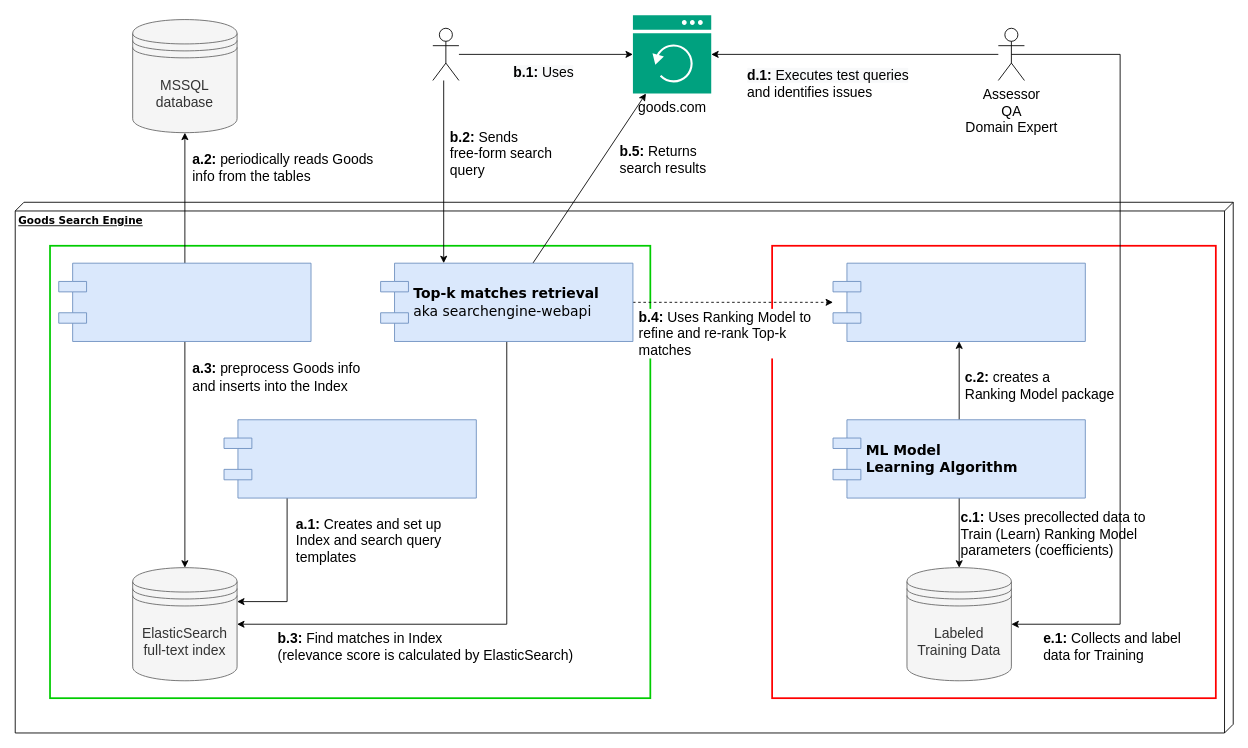
Some shapes in this 1248 by 748 pixel diagram are drawn without their labels. The shapes that lost their labels are listed below. From the top down, each one's centre as x and y in pixels, then its label:
At [445,53]: "User".
At [184,301]: "Indexer aka sync-goods-features".
At [958,301]: "ML Ranking Model".
At [349,458]: "Index Configuration aka searchengine-index".
